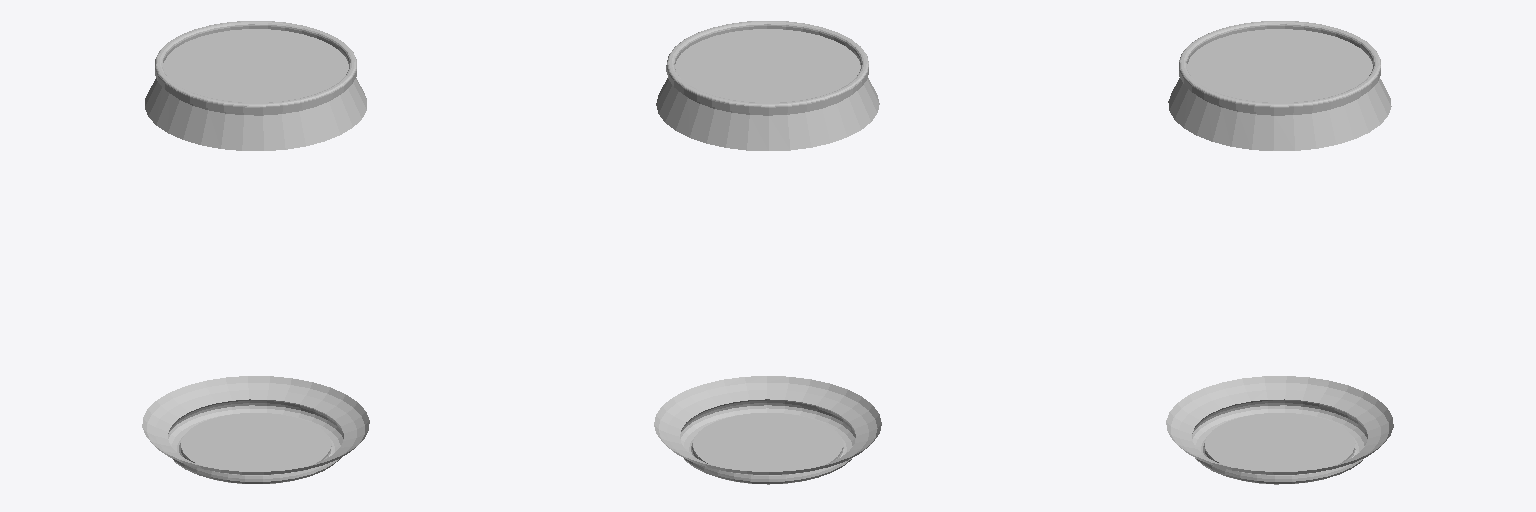
The model's file is canbottom_005.obj.
3 renders of one model, left to right at view 1: azimuth 30°, elevation 25°; view 2: azimuth 150°, elevation 25°; view 3: azimuth 270°, elevation 25°, orthographic.
Visible parts, largest first — view 1: canbottom.005; view 2: canbottom.005; view 3: canbottom.005.
Boxes of the visible parts, <box> form: canbottom.005: <box>142,21,369,483</box>; canbottom.005: <box>654,21,881,484</box>; canbottom.005: <box>1166,21,1393,484</box>.
Size of the model in its own units: 4.45 by 8.34 by 4.45.